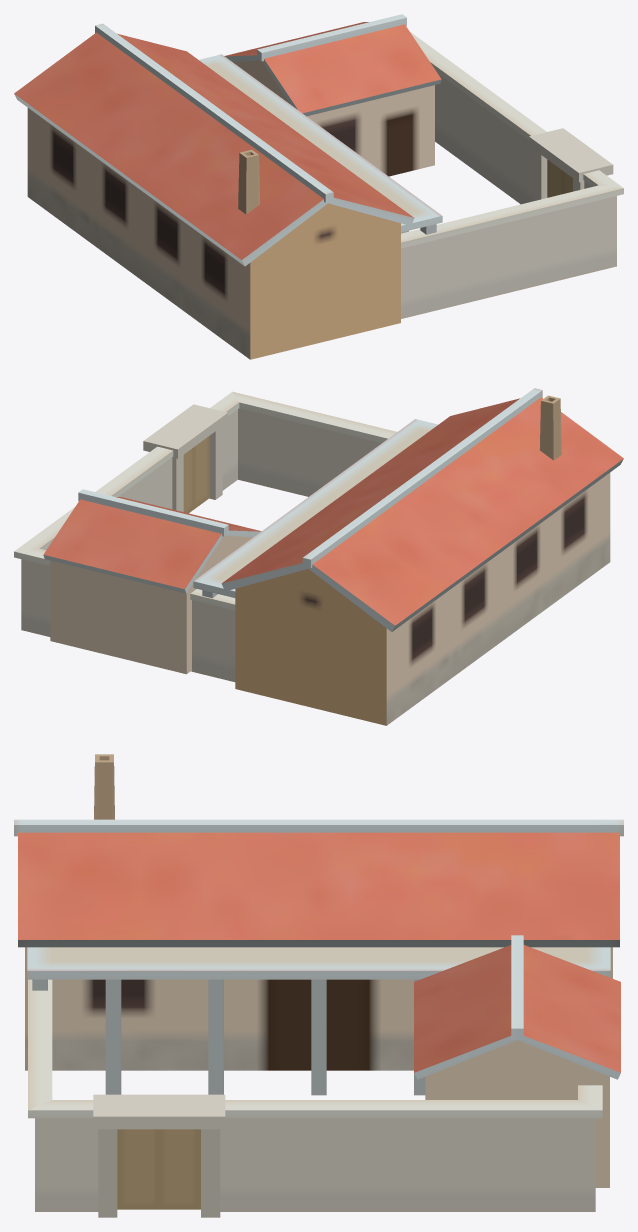
Rendered from Plain_Building_Residential_L1_03_Mod.fbx.
3 views of the same model, one above another, from view 1: azimuth 30°, elevation 25°; view 2: azimuth 150°, elevation 25°; view 3: azimuth 270°, elevation 25° (orthographic). The views are drawn at different scales.
Parts seen in each view (by area): view 1: Plain_Building_Residential_L1_03_Mod; view 2: Plain_Building_Residential_L1_03_Mod; view 3: Plain_Building_Residential_L1_03_Mod.
Boxes of the visible parts, x1,y1,x2,y2 form: Plain_Building_Residential_L1_03_Mod: (14,14,623,359); Plain_Building_Residential_L1_03_Mod: (14,388,623,725); Plain_Building_Residential_L1_03_Mod: (14,754,623,1217).
Size of the model in its own units: 1189 by 502 by 1188.
